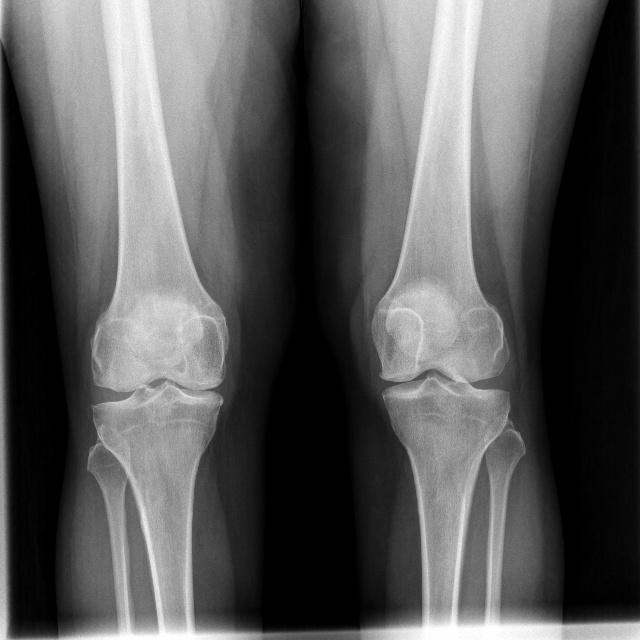Knee: (83, 324, 229, 455), (366, 321, 511, 446)
